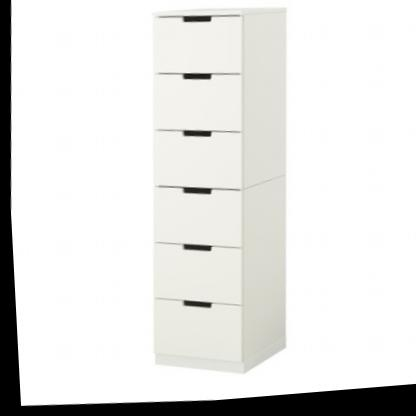Cabinet: (127, 0, 305, 389)
